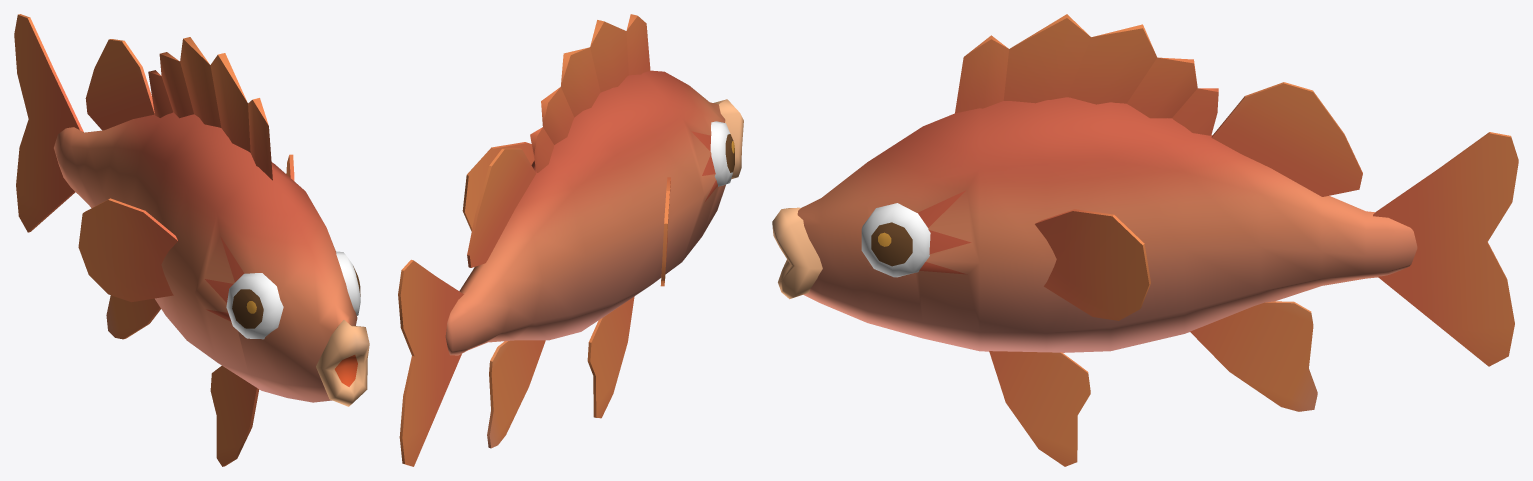
3 renders of one model, left to right at view 1: azimuth 30°, elevation 25°; view 2: azimuth 150°, elevation 25°; view 3: azimuth 270°, elevation 25°, orthographic. The views are drawn at different scales.
Visible parts, largest first — view 1: Fish_CanaryRockfish; view 2: Fish_CanaryRockfish; view 3: Fish_CanaryRockfish.
Boxes of the visible parts, <box> form: Fish_CanaryRockfish: <box>14,14,369,466</box>; Fish_CanaryRockfish: <box>398,14,743,466</box>; Fish_CanaryRockfish: <box>772,14,1518,466</box>.
Size of the model in its own units: 14.62 by 27.37 by 41.2.
